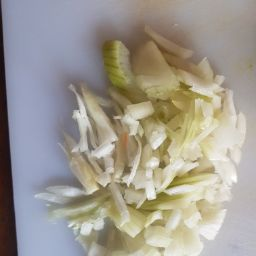Finely chopped onions: (36, 73, 249, 256), (96, 31, 247, 256)
